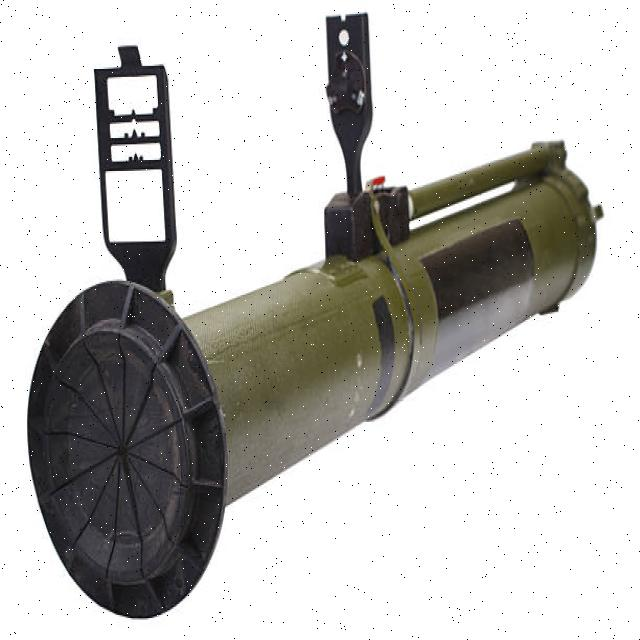bazooka: (19, 4, 611, 635)
